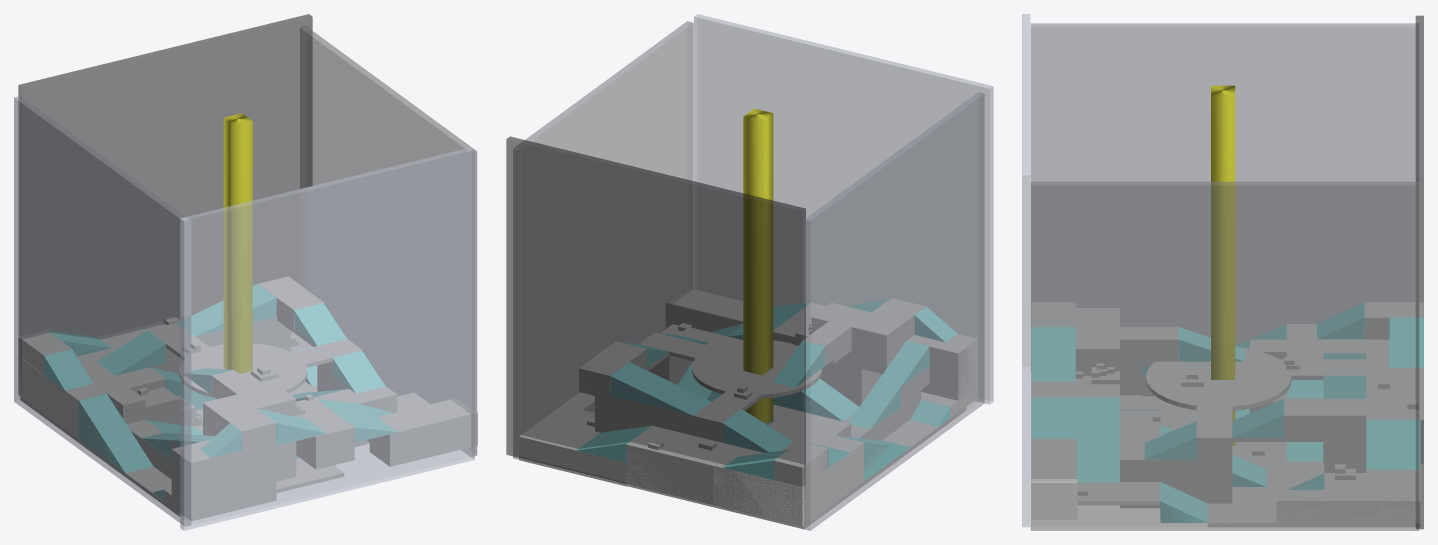
File: level_whitebox_col.glb
3 views of the same model, side by side, from view 1: azimuth 30°, elevation 25°; view 2: azimuth 150°, elevation 25°; view 3: azimuth 270°, elevation 25° (orthographic). The views are drawn at different scales.
Parts seen in each view (by area): view 1: col_平台.022, col_平台.014, col_平台.008, col_平台.020, col_.017, col_平台.050, col_平台.031, col_平台.082, ramp_平台.011, col_, col_平台.057, col_平台.059 (+25 smaller); view 2: col_平台.014, col_平台.022, col_平台.008, col_平台.020, col_.017, col_平台.082, col_平台.058, col_平台.028, col_, col_平台.050, col_平台.059, col_平台.060 (+26 smaller); view 3: col_平台.020, col_平台.008, col_.017, col_, col_平台.028, col_平台.022, col_平台.014, col_平台.006, col_平台.031, ramp_平台.006, col_平台.009, col_平台.055 (+32 smaller).
Part boxes in pixels (x1,y1,x2,y2): col_平台.022: (180, 147, 474, 530); col_平台.014: (18, 14, 312, 380); col_平台.008: (14, 96, 190, 526); col_平台.020: (300, 26, 477, 456); col_.017: (223, 113, 252, 373); col_平台.050: (172, 440, 276, 520); col_平台.031: (370, 398, 477, 466); col_平台.082: (18, 335, 165, 438); ramp_平台.011: (79, 394, 152, 472); col_: (179, 343, 306, 397); col_平台.057: (296, 399, 354, 469); col_平台.059: (203, 397, 275, 450); col_平台.014: (506, 136, 805, 525); col_平台.022: (694, 14, 993, 404); col_平台.008: (804, 92, 984, 530); col_平台.020: (513, 21, 693, 459); col_.017: (743, 108, 773, 422); col_平台.082: (713, 421, 863, 526); col_平台.058: (626, 426, 737, 504); col_平台.028: (519, 405, 628, 486); col_: (692, 340, 821, 397); col_平台.050: (882, 334, 977, 407); col_平台.059: (852, 298, 925, 373); col_平台.060: (811, 303, 881, 406); col_平台.020: (1030, 181, 1419, 530); col_平台.008: (1030, 23, 1418, 344); col_.017: (1211, 85, 1235, 445); col_: (1146, 347, 1291, 410); col_平台.028: (1324, 470, 1420, 526); col_平台.022: (1022, 14, 1030, 527); col_平台.014: (1415, 15, 1423, 529); col_平台.006: (1207, 469, 1418, 527); col_平台.031: (1031, 439, 1077, 519); ramp_平台.006: (1031, 397, 1119, 438); col_平台.009: (1284, 399, 1365, 437); col_平台.055: (1197, 421, 1231, 503).
Size of the model in its own units: 81.49 by 83.5 by 82.71.
